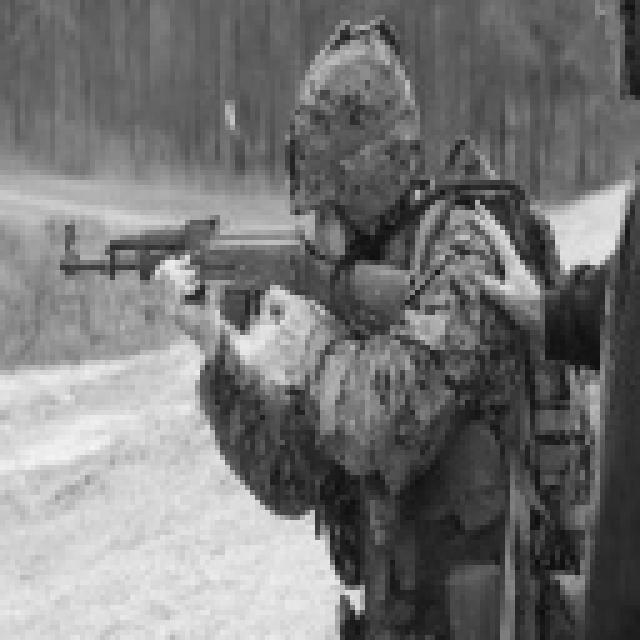Rifle: (0, 196, 375, 342)
